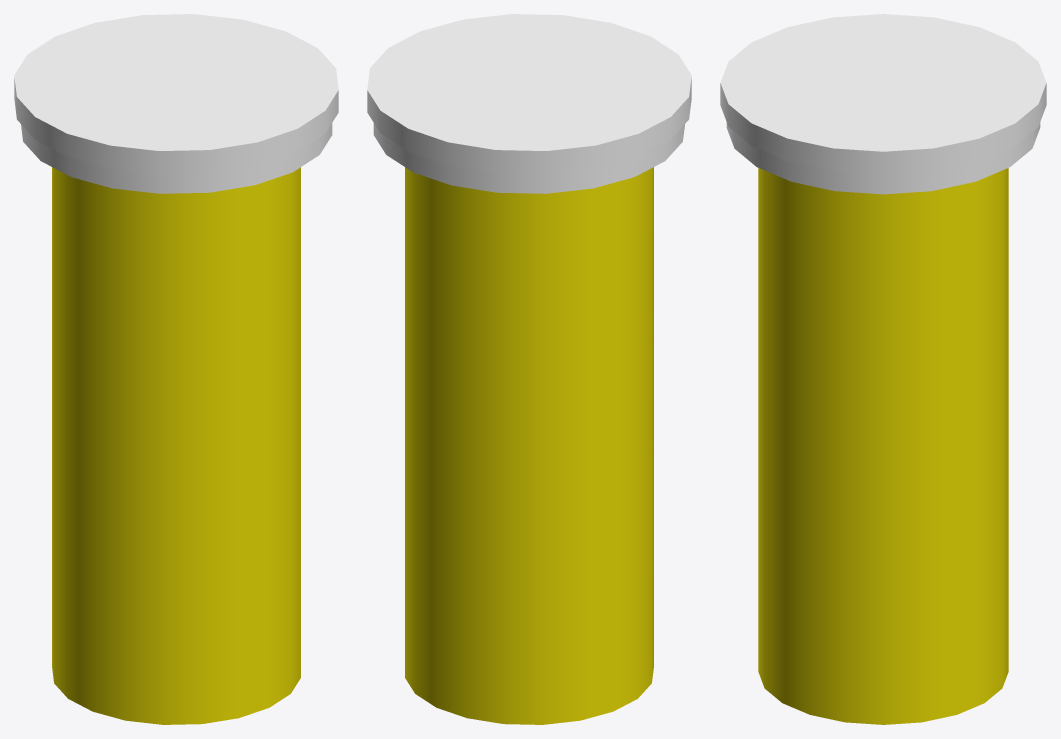
Rendered from Blockout_PillBottle_03.fbx.
3 renders of one model, left to right at view 1: azimuth 30°, elevation 25°; view 2: azimuth 150°, elevation 25°; view 3: azimuth 270°, elevation 25°, orthographic.
Visible parts, largest first — view 1: pCylinder1; view 2: pCylinder1; view 3: pCylinder1.
Part boxes in pixels (x1,y1,x2,y2): pCylinder1: [14, 14, 338, 724]; pCylinder1: [367, 14, 691, 724]; pCylinder1: [720, 14, 1046, 724].
Size of the model in its own units: 1.3 by 2.6 by 1.3.
